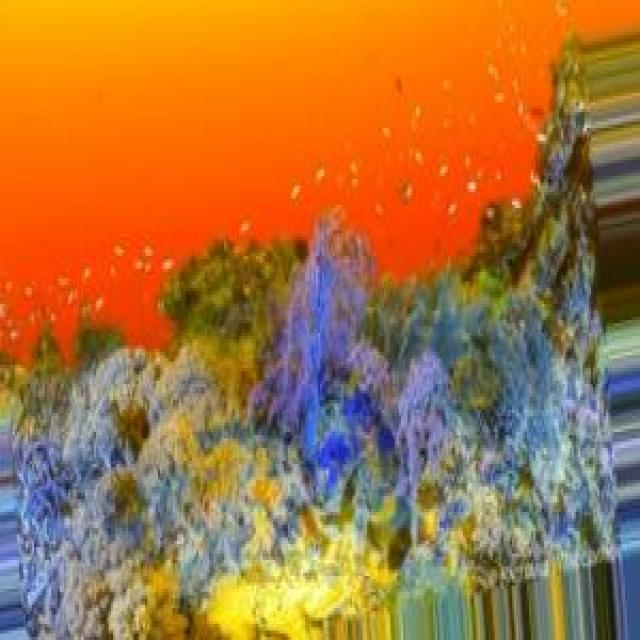Healthy: (1, 251, 308, 640), (438, 113, 618, 583), (251, 225, 400, 497)
